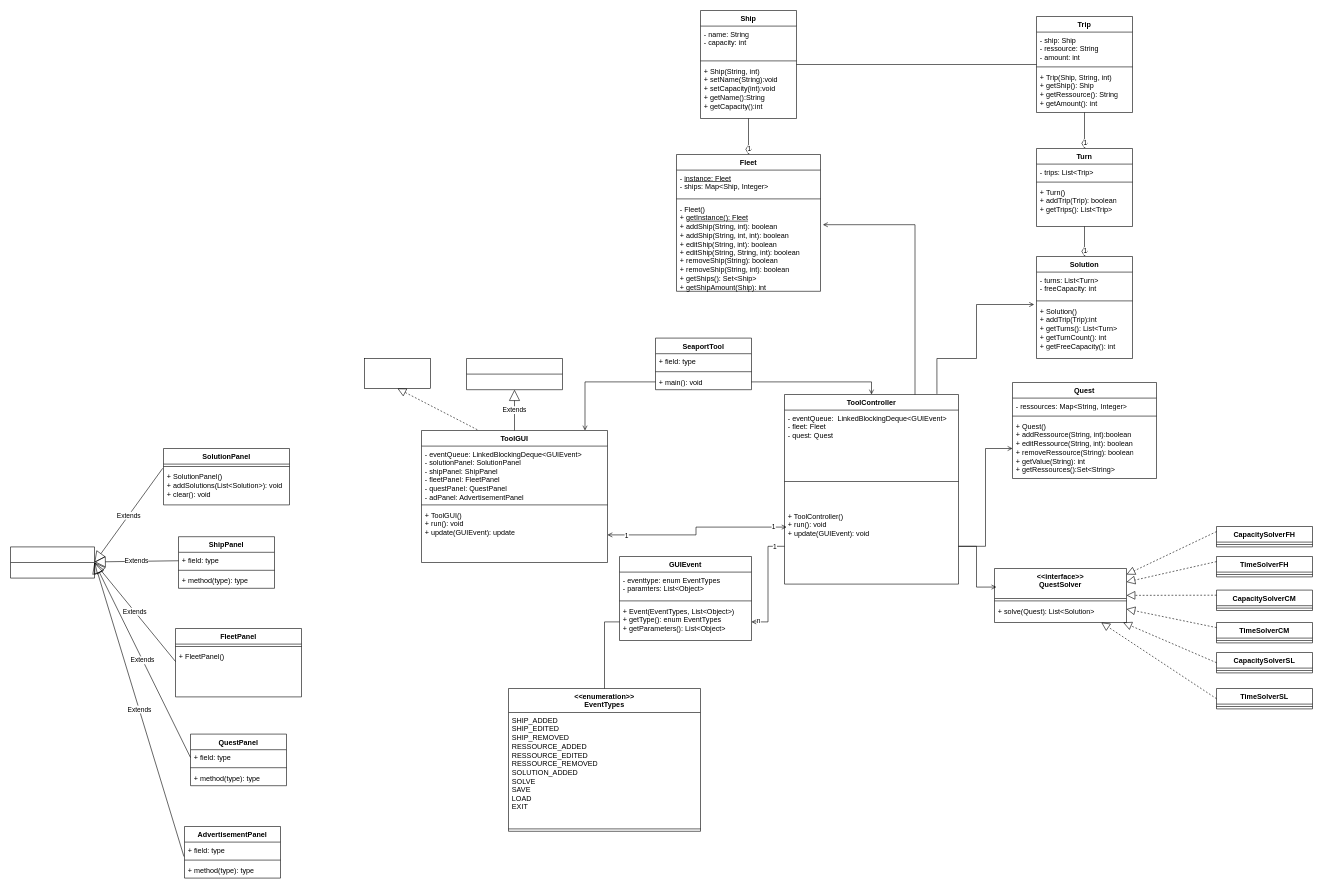
The diagram is 1323 pixels wide and 890 high, and some of its shapes have lost their labels. Each missing label, with the centre of its shape:
"JFrame" belongs at (x=514, y=374).
"JPanel" belongs at (x=52, y=562).
"«interface» Runnable" belongs at (x=397, y=373).
